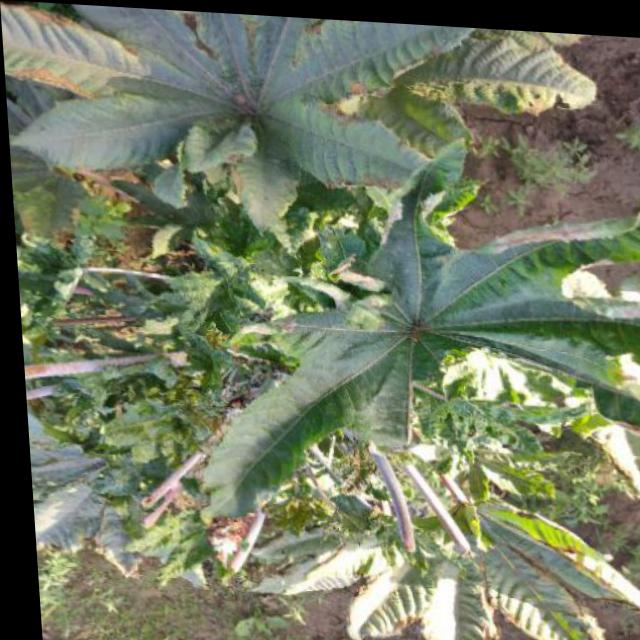weed: (5, 5, 640, 625)
